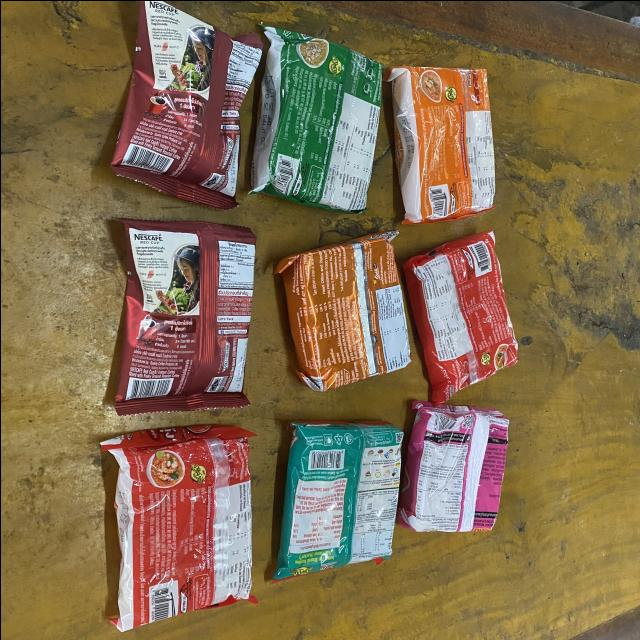plastik: (100, 424, 256, 630), (110, 0, 261, 208), (113, 219, 254, 414), (249, 25, 381, 212), (273, 230, 410, 390), (272, 421, 402, 581), (402, 230, 516, 403), (385, 66, 495, 224), (397, 400, 508, 531)
